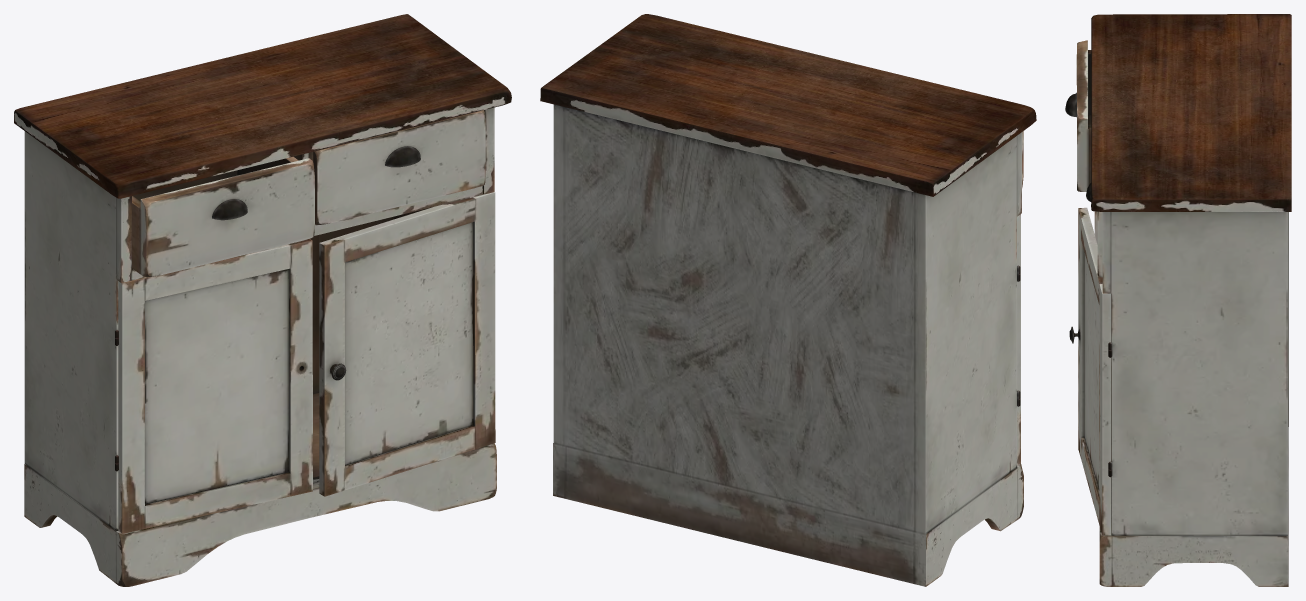
File: painted_wooden_cabinet_1k.gltf
3 views of the same model, side by side, from view 1: azimuth 30°, elevation 25°; view 2: azimuth 150°, elevation 25°; view 3: azimuth 270°, elevation 25° (orthographic). The views are drawn at different scales.
Parts seen in each view (by area): view 1: painted_wooden_cabinet, painted_wooden_cabinet_door_01, painted_wooden_cabinet_door_02, painted_wooden_cabinet_drawer_01, painted_wooden_cabinet_drawer_02; view 2: painted_wooden_cabinet, painted_wooden_cabinet_door_01; view 3: painted_wooden_cabinet, painted_wooden_cabinet_door_02, painted_wooden_cabinet_drawer_01, painted_wooden_cabinet_drawer_02.
Boxes of the visible parts, bbox=[...] form: painted_wooden_cabinet: bbox=[14, 14, 511, 586]; painted_wooden_cabinet_door_01: bbox=[118, 238, 312, 533]; painted_wooden_cabinet_door_02: bbox=[319, 192, 495, 496]; painted_wooden_cabinet_drawer_01: bbox=[132, 156, 314, 277]; painted_wooden_cabinet_drawer_02: bbox=[313, 110, 485, 224]; painted_wooden_cabinet: bbox=[540, 14, 1036, 586]; painted_wooden_cabinet_door_01: bbox=[1017, 214, 1020, 465]; painted_wooden_cabinet: bbox=[1091, 14, 1291, 586]; painted_wooden_cabinet_door_02: bbox=[1069, 207, 1110, 535]; painted_wooden_cabinet_drawer_01: bbox=[1065, 40, 1091, 191]; painted_wooden_cabinet_drawer_02: bbox=[1086, 183, 1102, 277].
Bounding box in the file's own units: 1.19 × 1.18 × 0.6166.
1 material, 1 textured.
